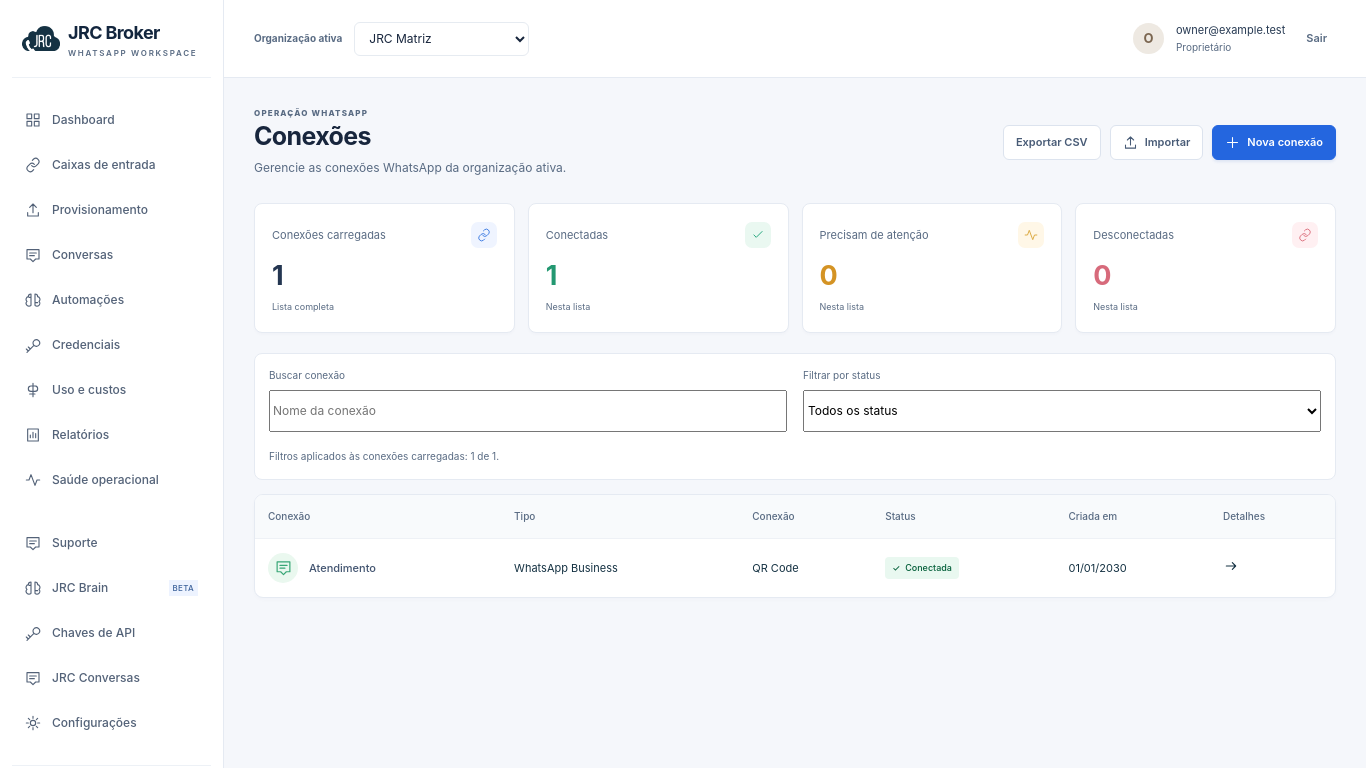
Test: ConnectionsPage › recarrega o tenant de origem quando a troca é rejeitada após o purge
This screenshot has width=1366, height=768.
Expected: the link "Atendimento" is shown, [268,553,376,583]
Select "JRC Filial" in the dropdown labelled "Organização ativa": (442, 38) [354,22,529,56]
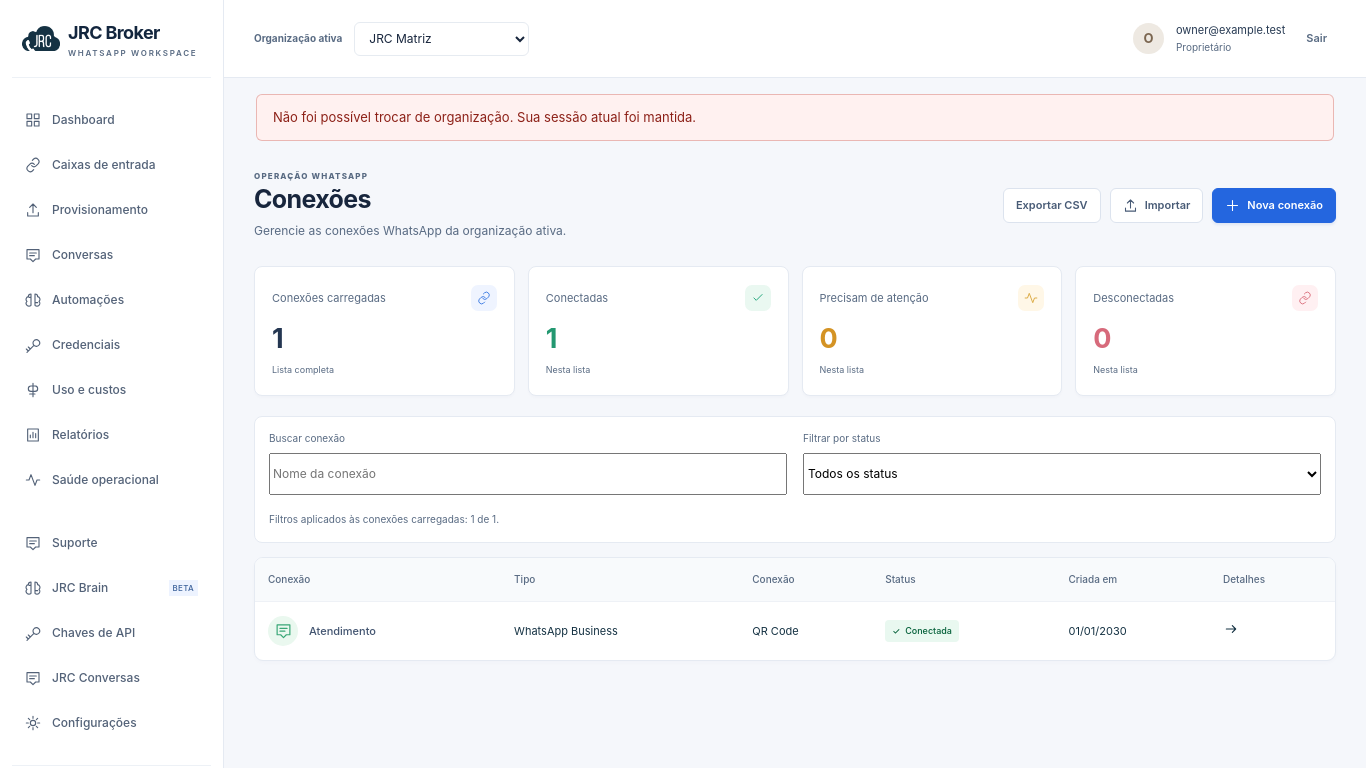
Expected: the link "Atendimento" is shown, [268,616,376,646]
Now the message "Não foi possível trocar de organização. Sua sessão atual foi mantida." is shown, box [256,94,1334,141]
